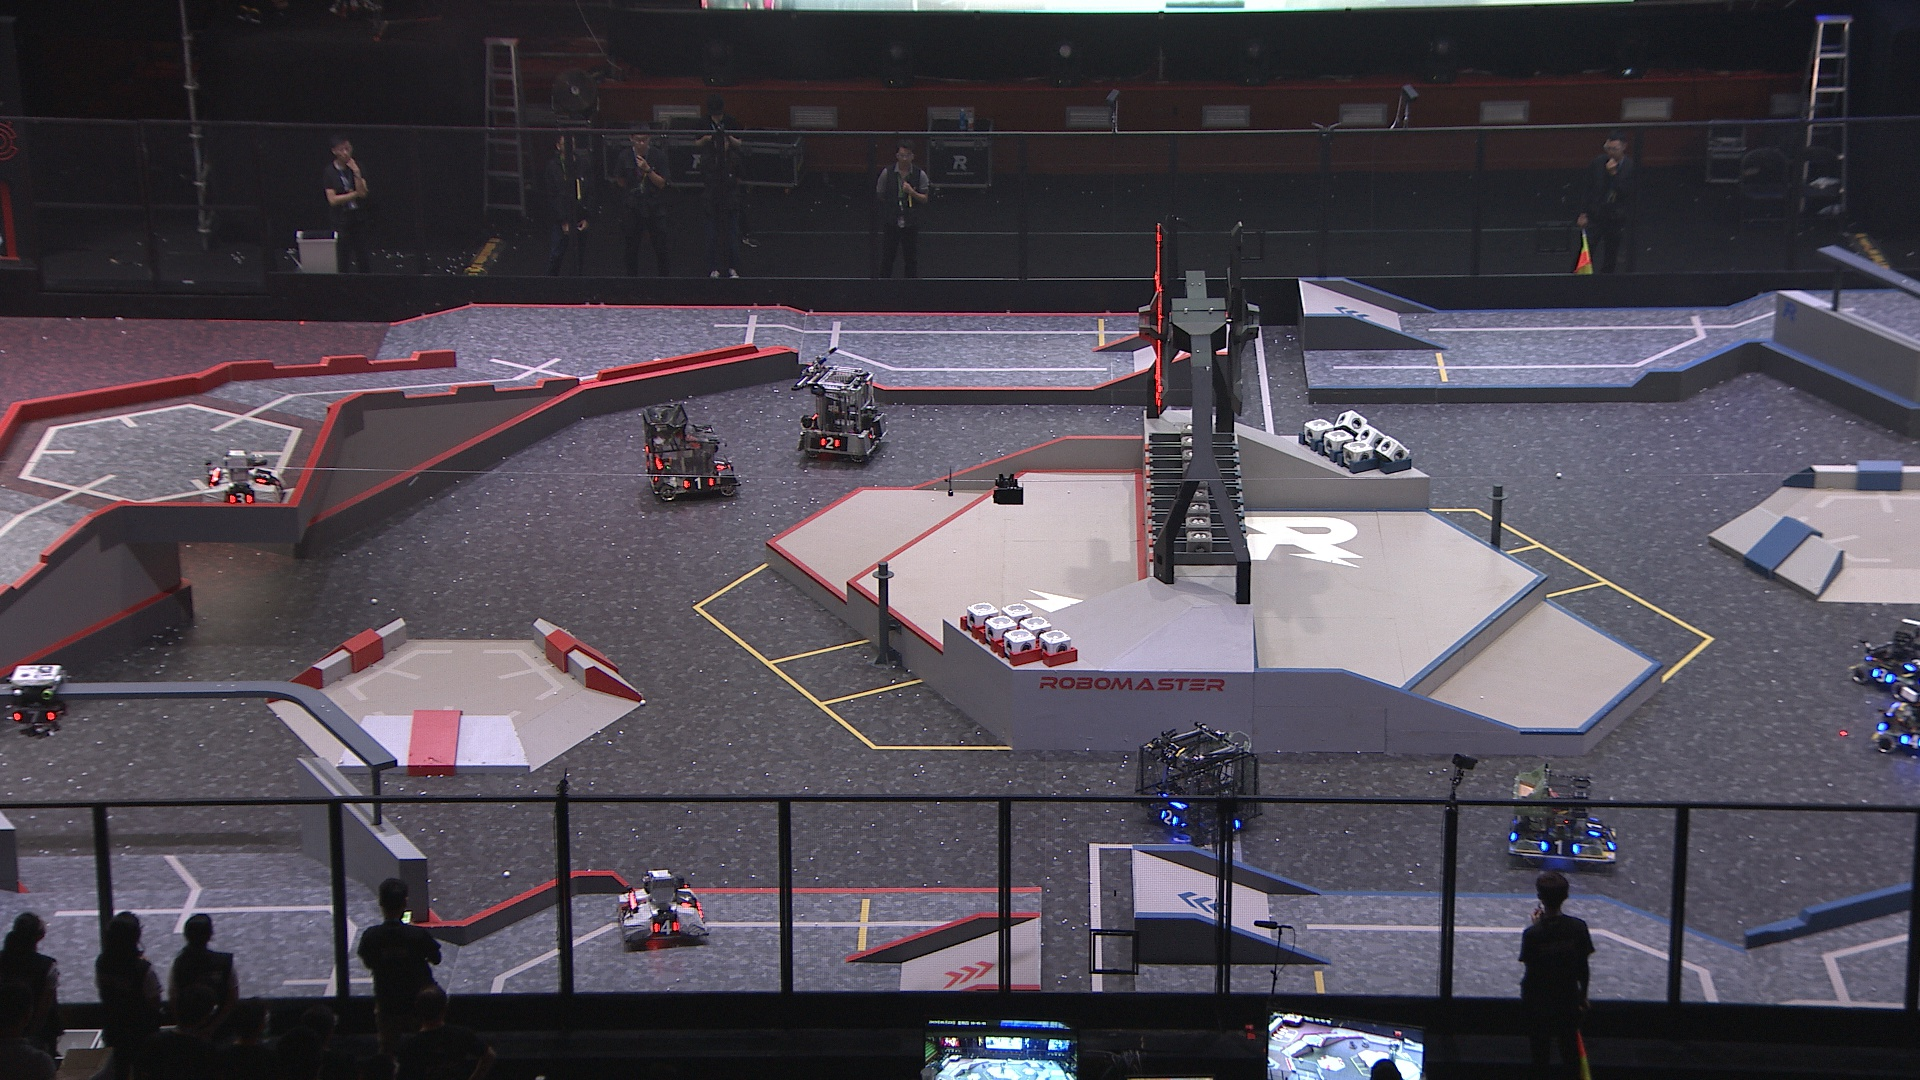armor: (1542, 839, 1581, 858), (11, 709, 55, 725), (650, 916, 683, 936), (680, 476, 717, 491), (1160, 806, 1182, 825), (1871, 666, 1894, 684), (225, 491, 253, 505), (1899, 732, 1920, 750), (675, 889, 695, 907), (818, 436, 843, 451), (1584, 818, 1600, 840), (253, 469, 273, 487), (1905, 655, 1920, 675), (709, 458, 728, 472), (1607, 829, 1618, 851), (868, 425, 878, 443)
car: (1134, 717, 1261, 841), (1505, 764, 1623, 870), (640, 404, 741, 504), (793, 368, 887, 462), (615, 868, 713, 951), (204, 446, 289, 513), (1849, 618, 1920, 698), (1869, 684, 1920, 760)
watcher: (5, 665, 67, 738)
